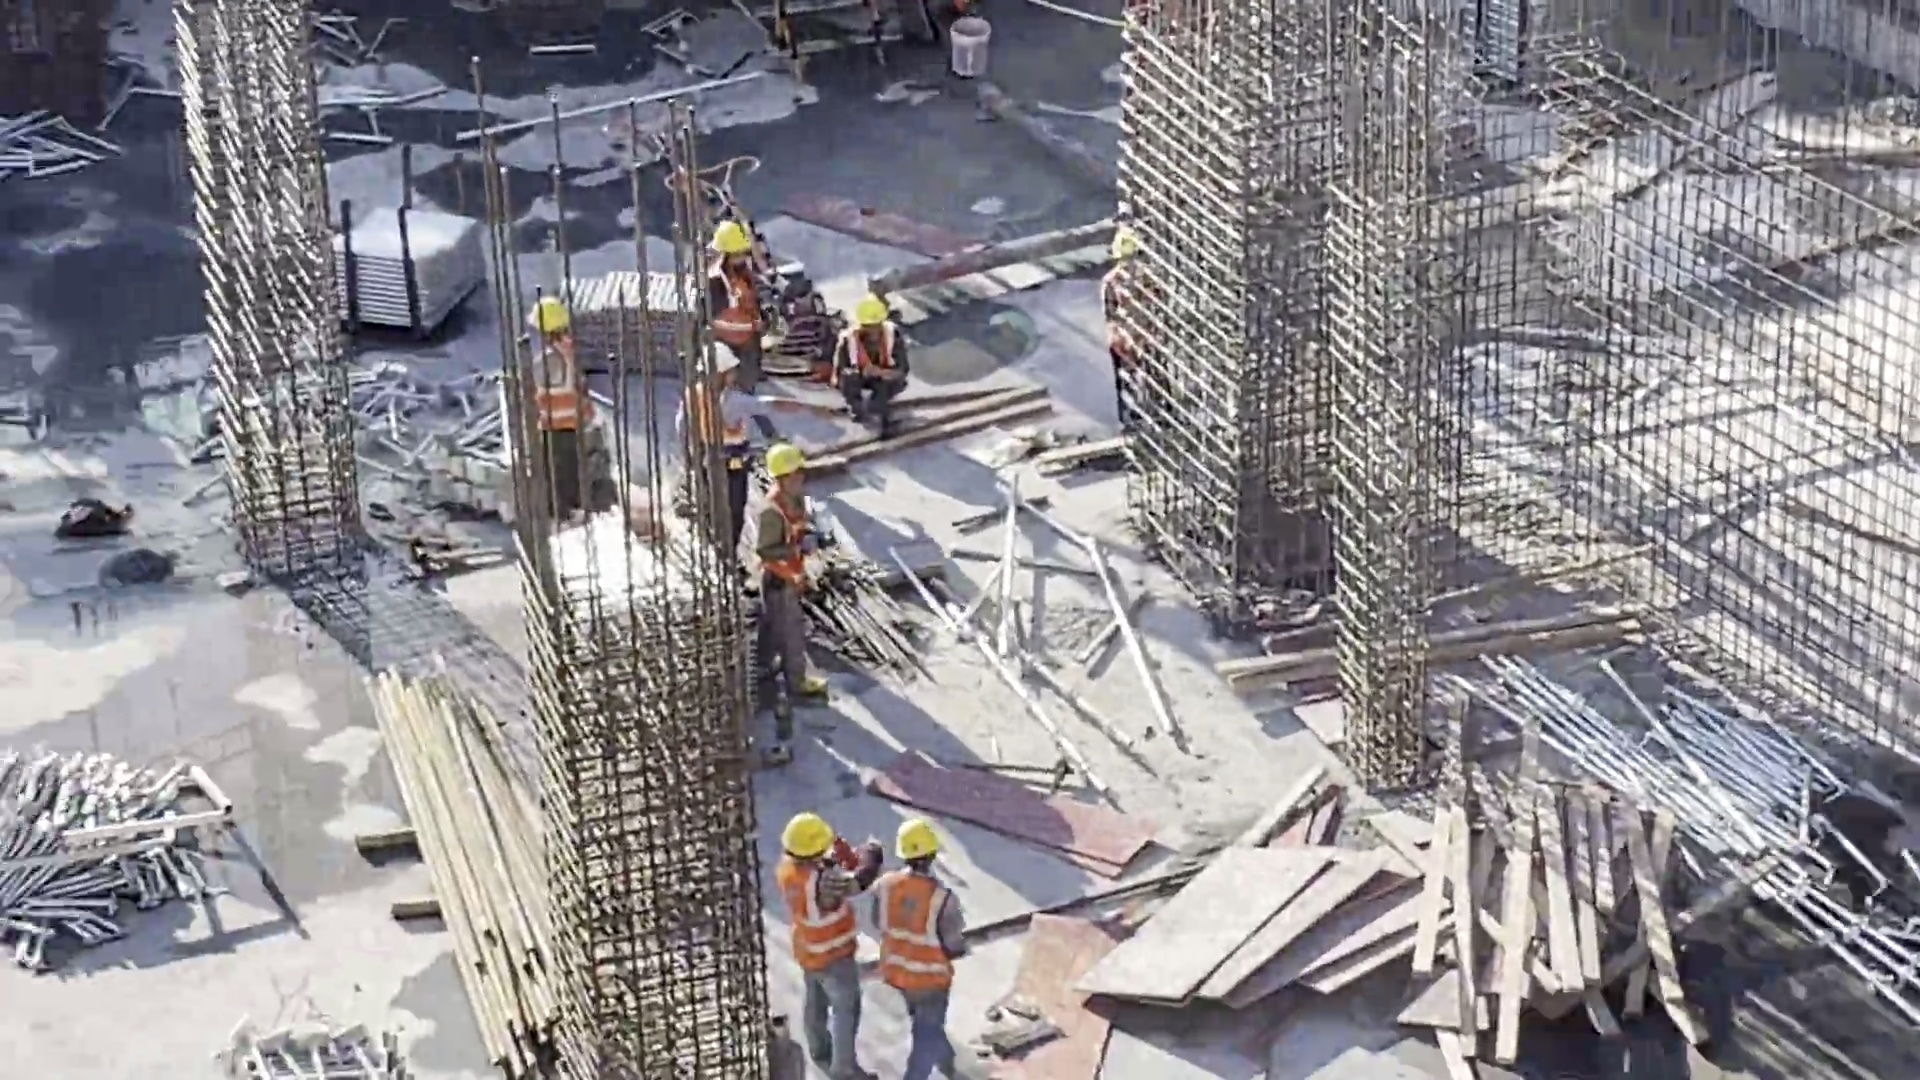helmet: (775, 809, 838, 867), (762, 446, 812, 511), (691, 334, 738, 387), (706, 216, 747, 275), (530, 301, 571, 341), (898, 826, 948, 859), (1107, 224, 1149, 258), (852, 290, 899, 320)
person: (777, 817, 885, 1068), (736, 438, 834, 708), (875, 822, 975, 1080), (686, 338, 771, 553), (518, 278, 595, 517), (1100, 227, 1185, 409), (811, 289, 906, 411), (696, 215, 767, 375)
vest: (863, 857, 937, 998), (786, 842, 855, 979), (525, 337, 597, 437), (751, 486, 792, 631), (830, 328, 904, 397), (678, 372, 737, 458), (707, 267, 760, 331)
